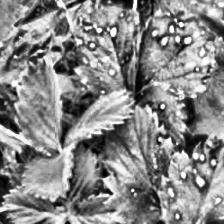Leaf Spot: (100, 101, 182, 224), (134, 10, 218, 98), (72, 0, 142, 96), (155, 133, 224, 224), (132, 82, 188, 148)
